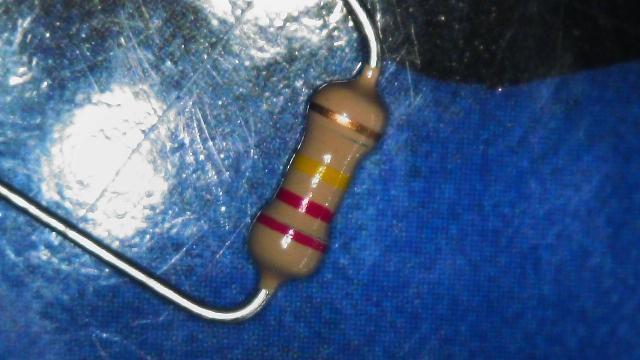gold: (307, 102, 378, 139)
red: (256, 213, 326, 252), (278, 188, 330, 220)
resistor: (211, 54, 417, 314)
yellow: (292, 154, 350, 189)
